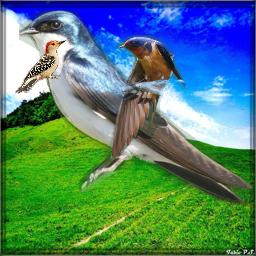Swallow: (19, 10, 255, 206), (109, 35, 187, 159)
Woodpecker: (15, 40, 66, 94)
